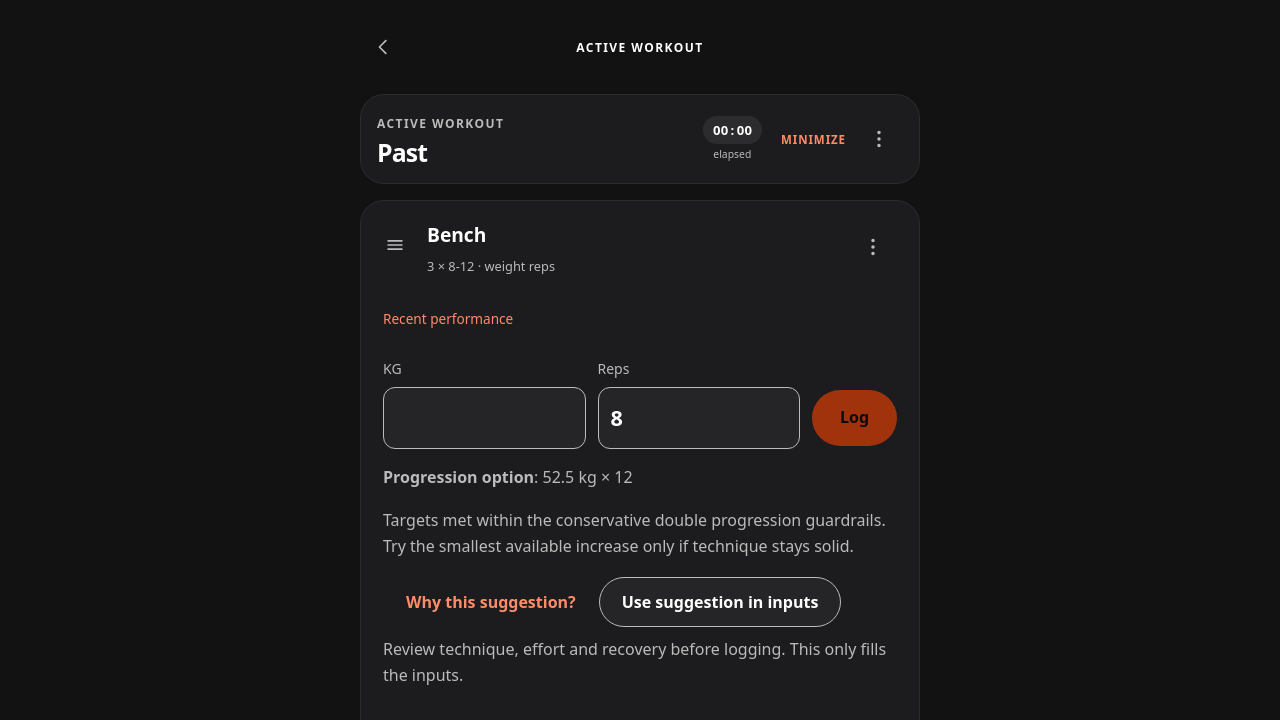
Test: uses the comparable duplicate slot and applies advice only to draft inputs
Expected: the text "Progression option" is shown, [383,466,534,488]
Expected: the text "Progression option: 52.5 kg × 12" is shown, [383,466,633,488]
Click the button "Why this suggestion?" at (491, 602), box [383,578,599,628]
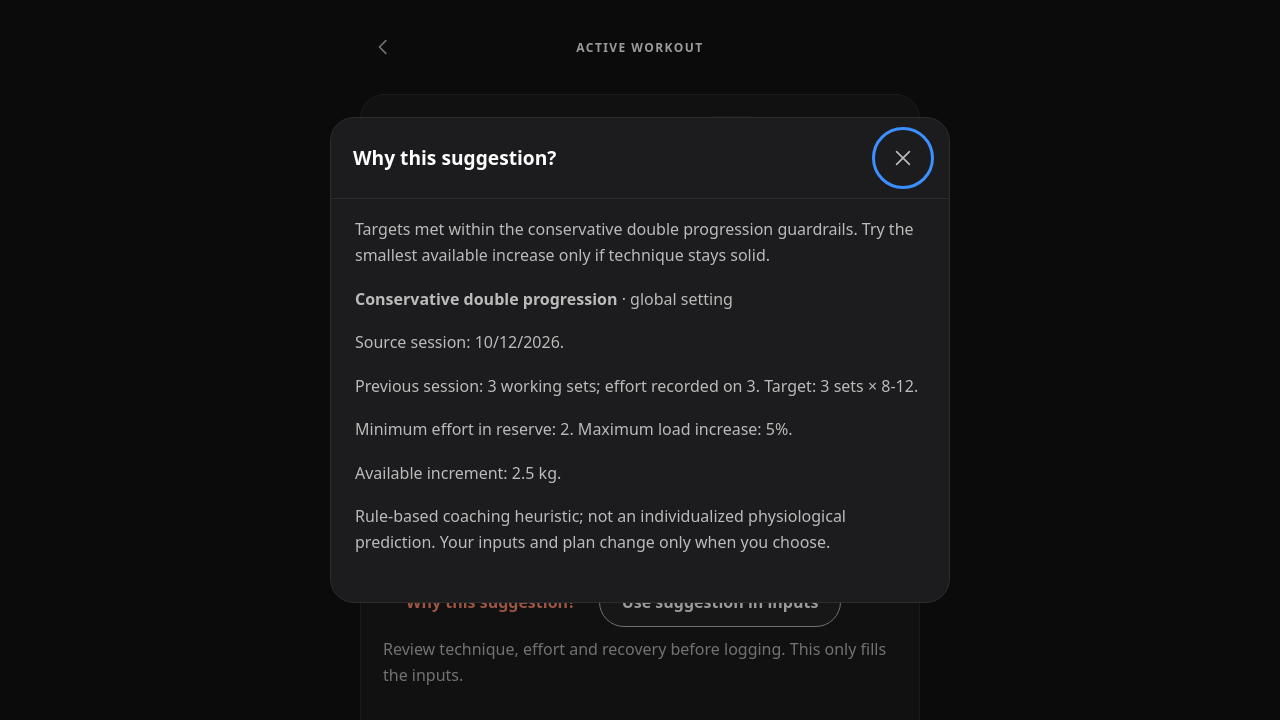
Now the text "3 working sets; effort recorded on 3" is shown, box [355,374,925,399]
Click the button named "Close Why this suggestion?" at (903, 158), box [879,134,927,182]
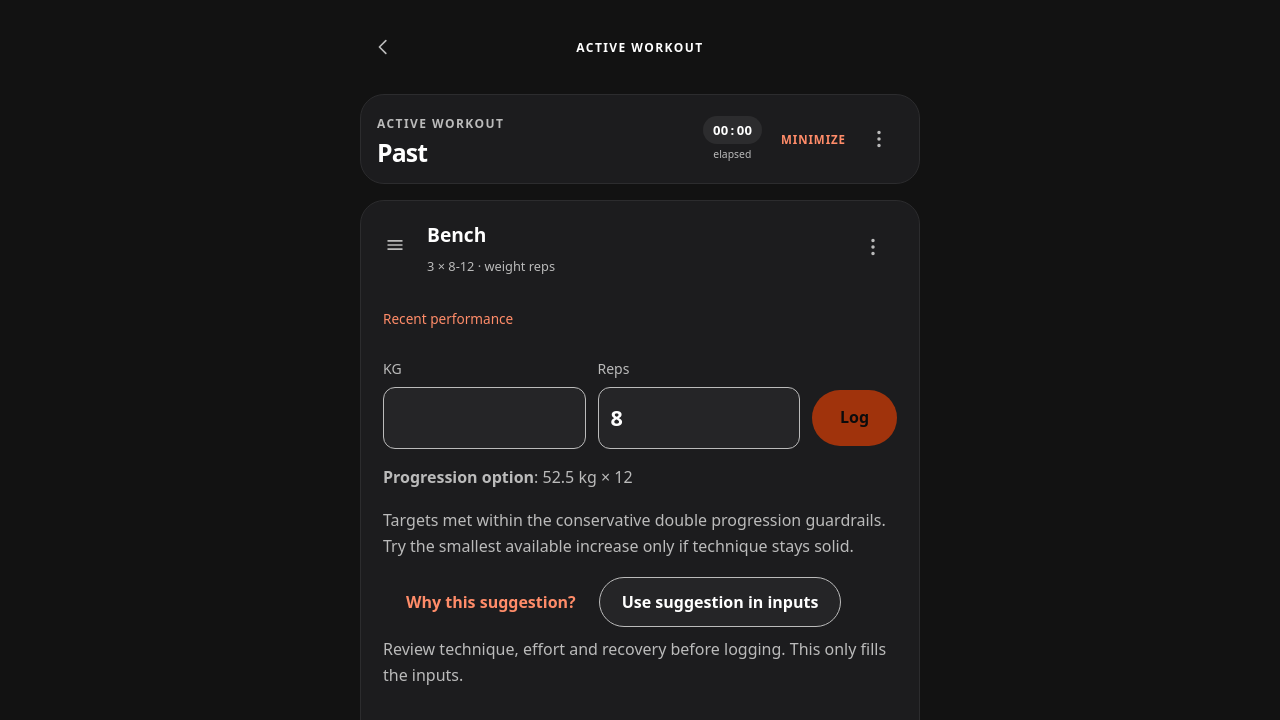
Click the button "Use suggestion in inputs" at (720, 602), box [599,578,841,628]
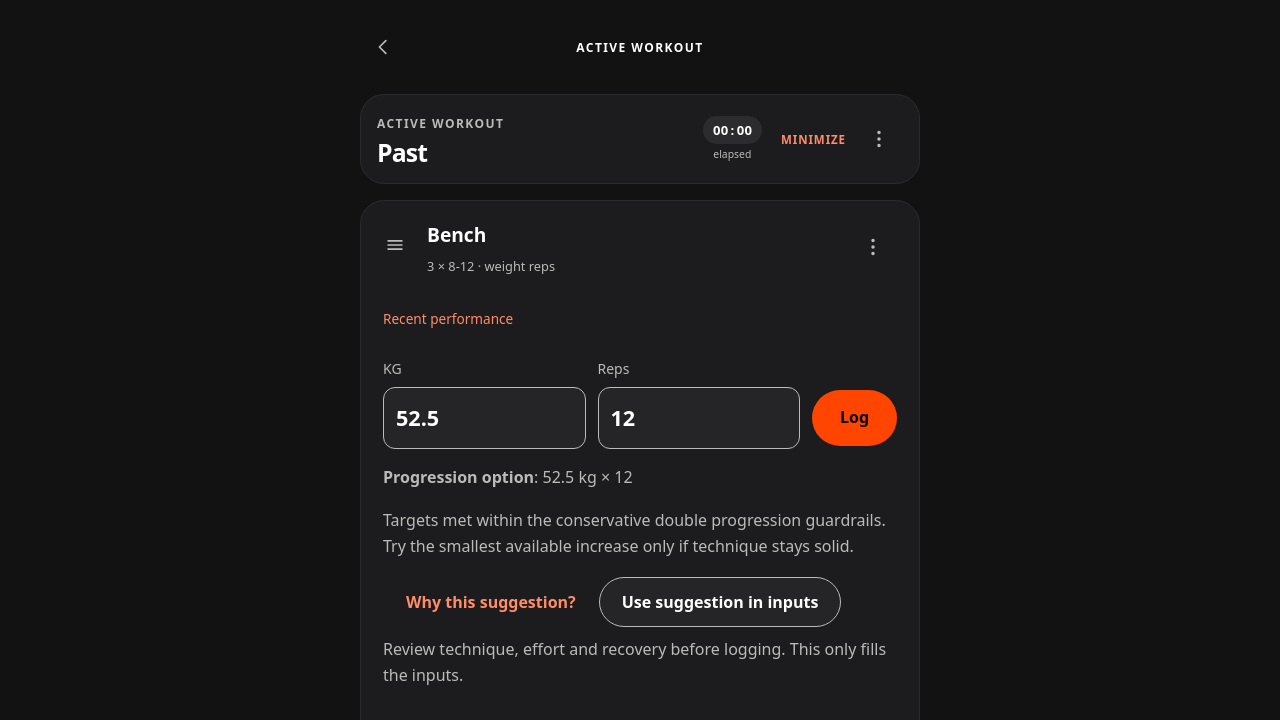
Now the number field labelled "KG" holds "52.5", box [383,387,586,449]
